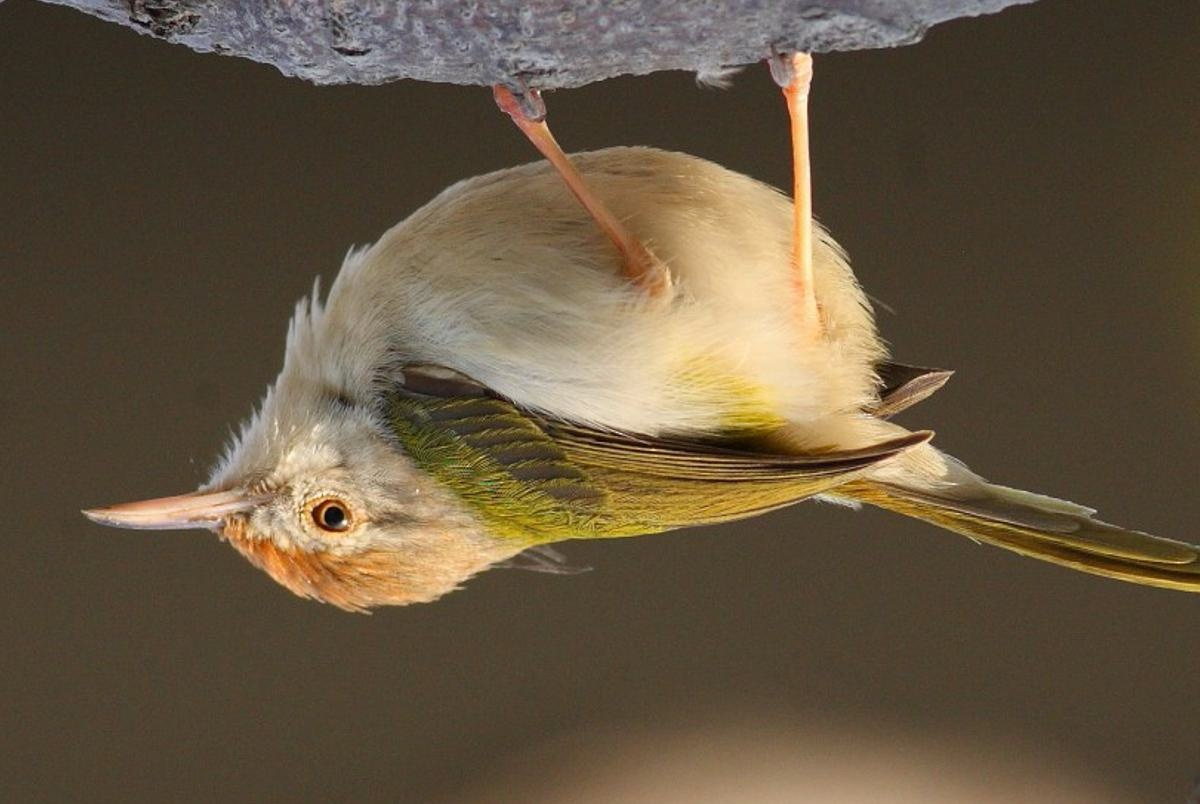tailorbird: (95, 114, 1179, 617)
